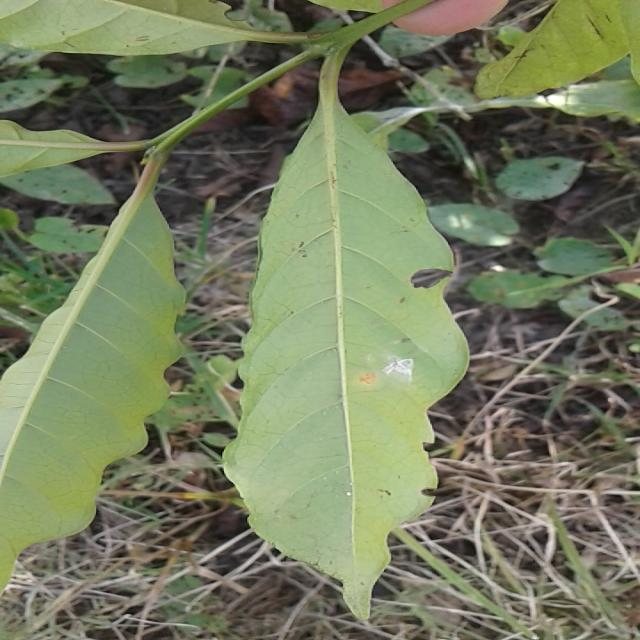Enfermedad-Roya: (220, 50, 471, 619)
